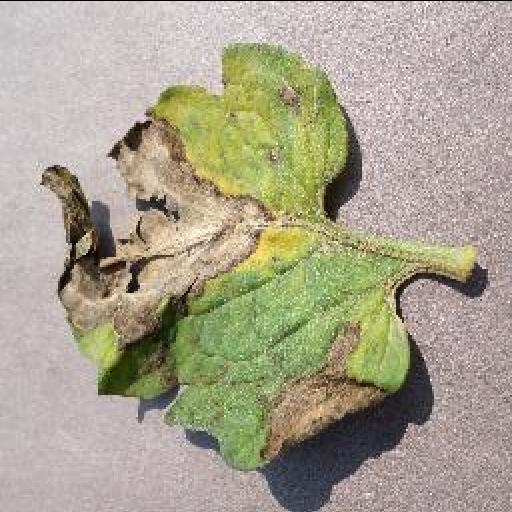disease_tomato: (32, 39, 414, 469)
